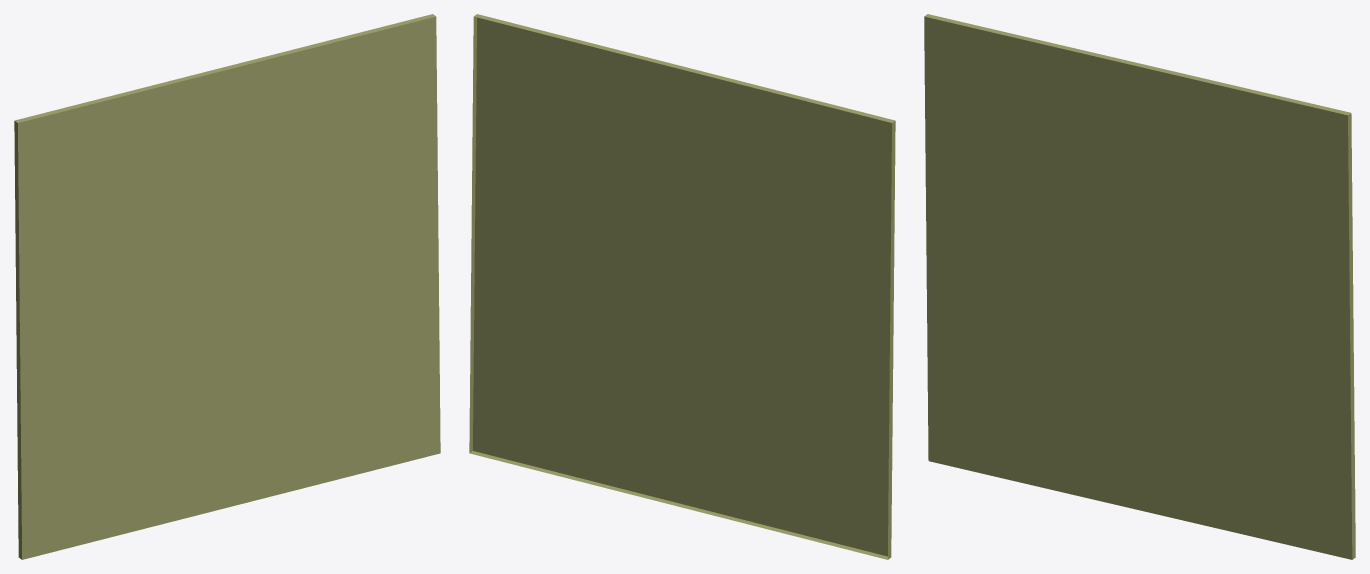
Rendered from StickyNote.fbx.
3 views of the same model, side by side, from view 1: azimuth 30°, elevation 25°; view 2: azimuth 150°, elevation 25°; view 3: azimuth 330°, elevation 25° (orthographic).
Parts seen in each view (by area): view 1: pCube225; view 2: pCube225; view 3: pCube225.
Part boxes in pixels (x1,y1,x2,y2): pCube225: (14, 14, 440, 559); pCube225: (469, 14, 895, 559); pCube225: (924, 14, 1355, 559).
Bounding box in the file's own units: 0.3556 × 0.3556 × 0.00508.
